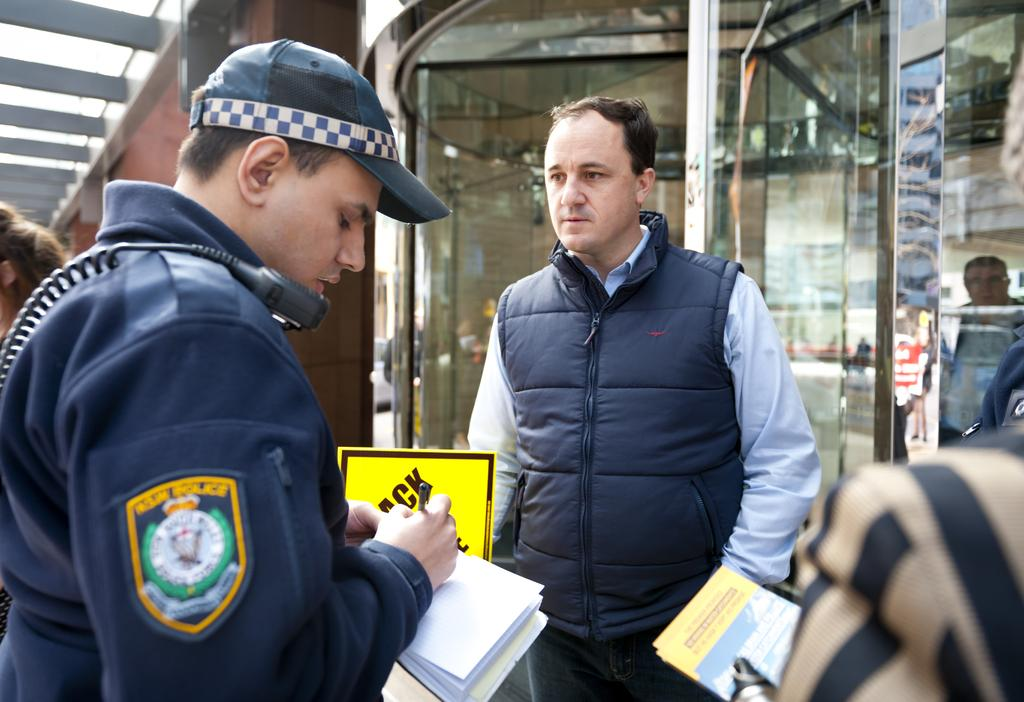Hat: (188, 33, 456, 226)
